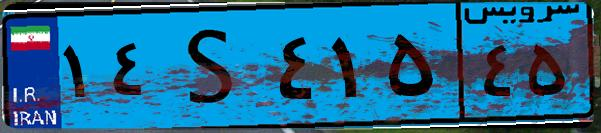1: (330, 28, 385, 110), (57, 26, 110, 100)
4: (270, 28, 330, 110), (475, 38, 525, 113), (110, 28, 158, 98)
5: (385, 28, 445, 110), (525, 38, 570, 115)
S: (158, 12, 270, 120)
